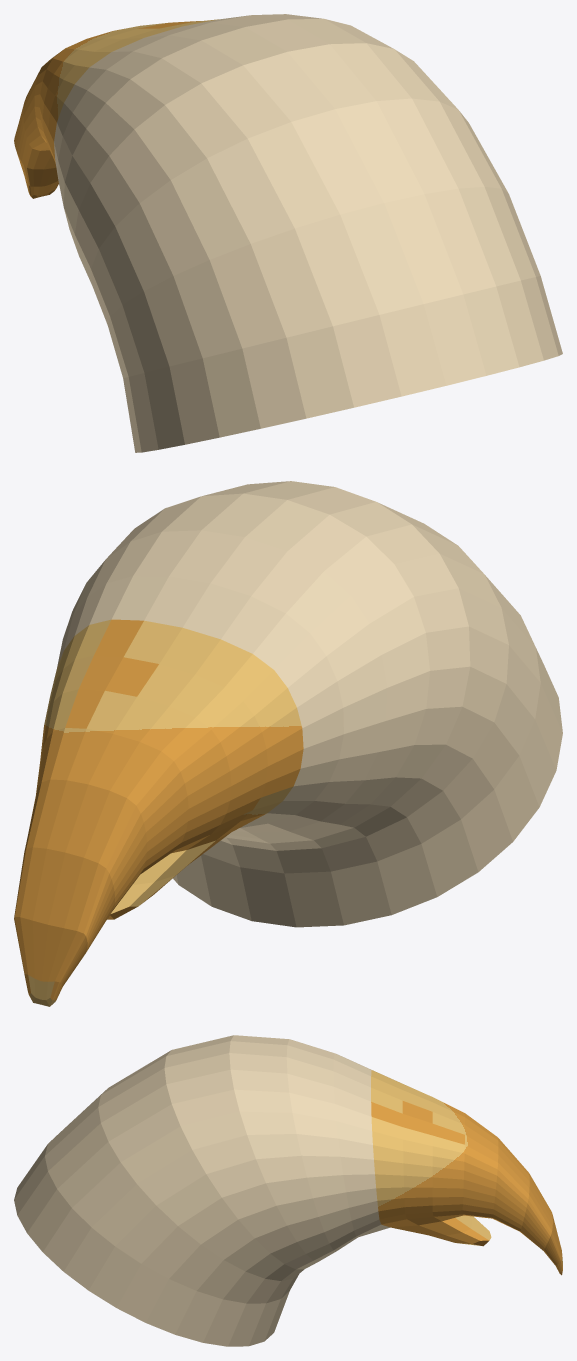
Rendered from eaglehead.fbx.
3 views of the same model, one above another, from view 1: azimuth 30°, elevation 25°; view 2: azimuth 150°, elevation 25°; view 3: azimuth 270°, elevation 25° (orthographic). The views are drawn at different scales.
Parts seen in each view (by area): view 1: head; view 2: head; view 3: head.
Boxes of the visible parts, x1,y1,x2,y2 form: head: (14, 14, 562, 452); head: (14, 481, 562, 1006); head: (14, 1035, 562, 1346).
Bounding box in the file's own units: 58.72 × 58.21 × 108.
